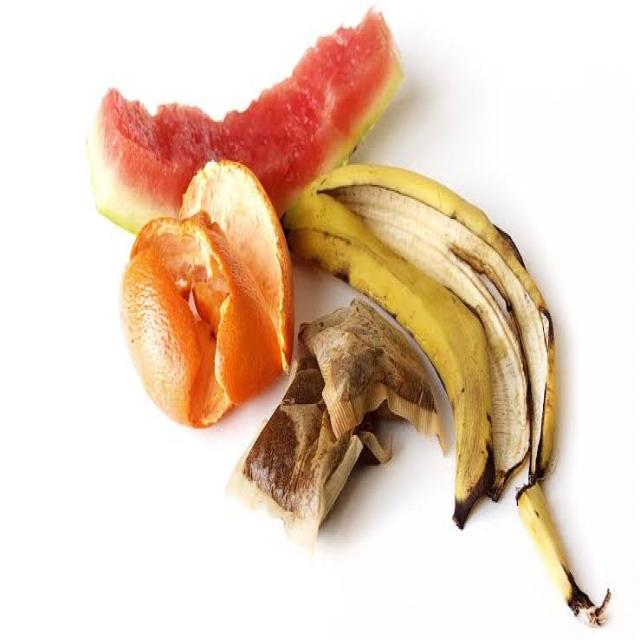food waste: (55, 0, 640, 552)
